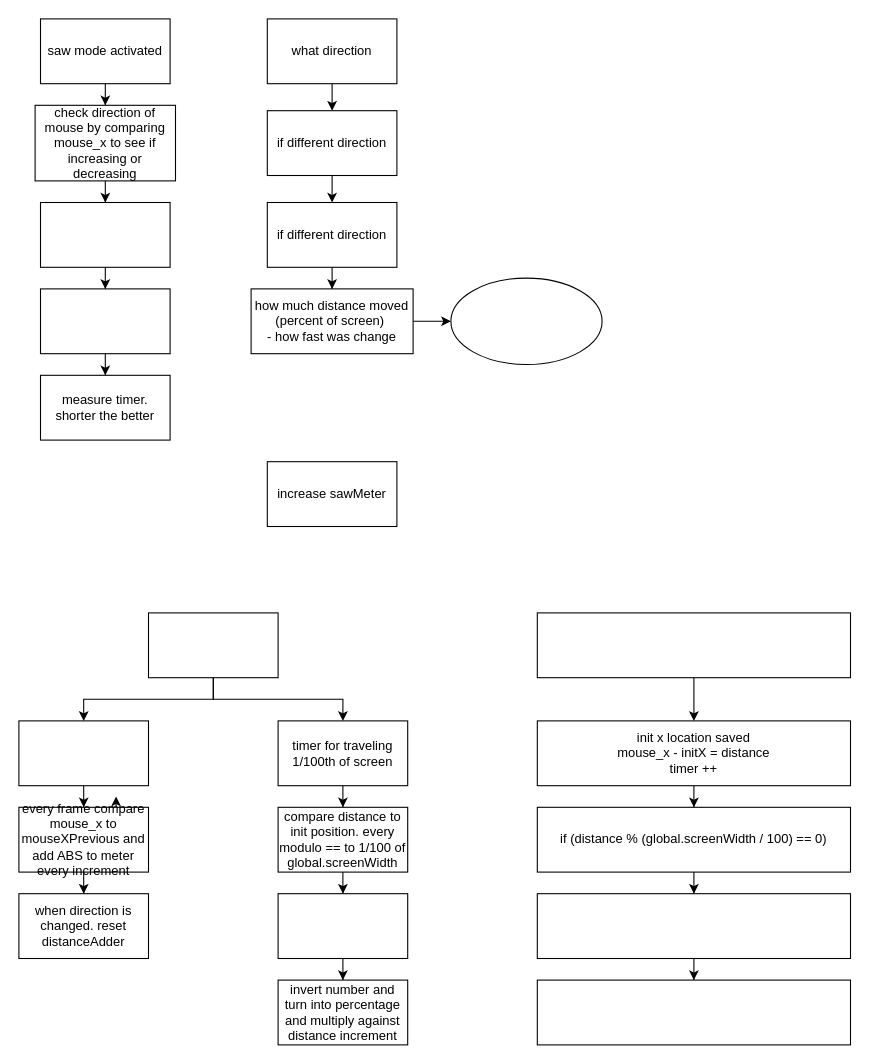
The diagram is 869 pixels wide and 1064 high, and some of its shapes have lost their labels. Here are the shapes that lost their labels. From the top down, the centre of each, then its label:
At point 104,234: "init timer every direction change".
At point 104,321: "measure distance changed".
At point 526,320: "seconds - convert into percent. 0 seconds = 100. 10 seconds = 1%".
At point 212,645: "Move mouse left/right".
At point 693,645: "mouse is move left/right".
At point 83,753: "distance traveled added to meter".
At point 342,926: "every increment, measure how many frames have passed".
At point 693,926: "invert timer from max and turn into percentage (timerMax - timer) / timer".
